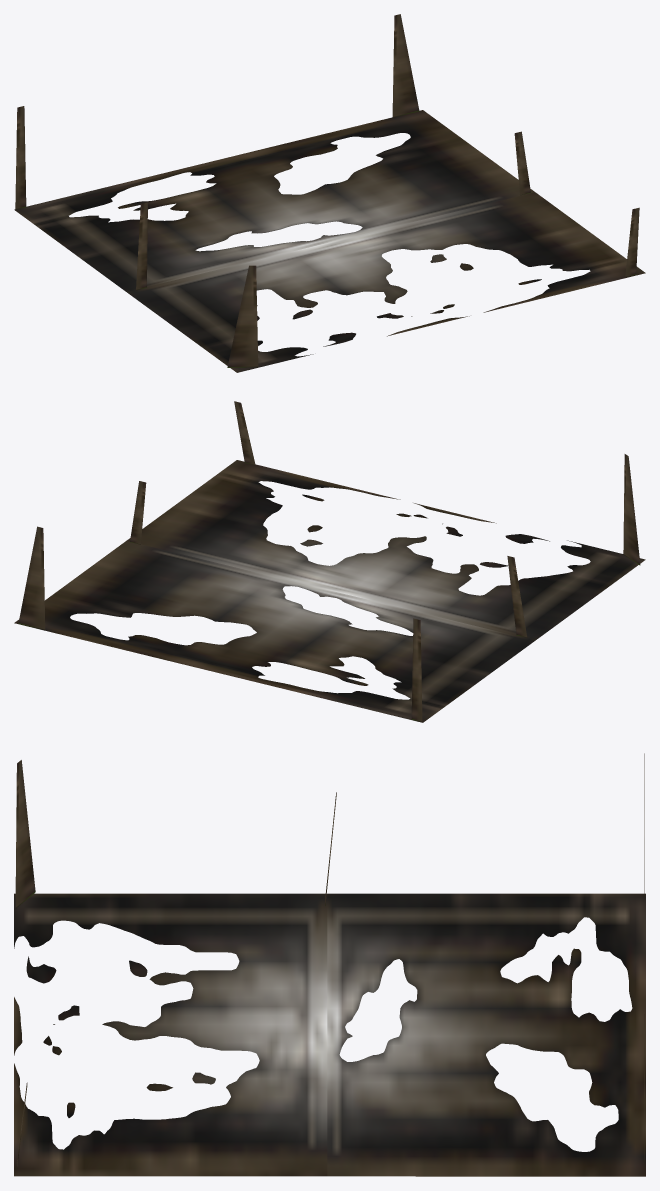
File: shack_dam.glb
3 views of the same model, one above another, from view 1: azimuth 30°, elevation 25°; view 2: azimuth 150°, elevation 25°; view 3: azimuth 270°, elevation 25° (orthographic). The views are drawn at different scales.
Parts seen in each view (by area): view 1: ShackDam; view 2: ShackDam; view 3: ShackDam.
Part boxes in pixels (x1=…): ShackDam: x1=14, y1=14, x2=645, y2=372; ShackDam: x1=14, y1=401, x2=645, y2=722; ShackDam: x1=14, y1=753, x2=645, y2=1176.
Bounding box in the file's own units: 6.08 × 1.44 × 5.72.
1 material, 1 textured.
